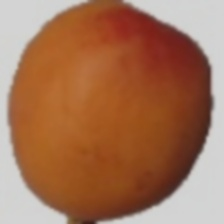apricot: (35, 44, 221, 205)
